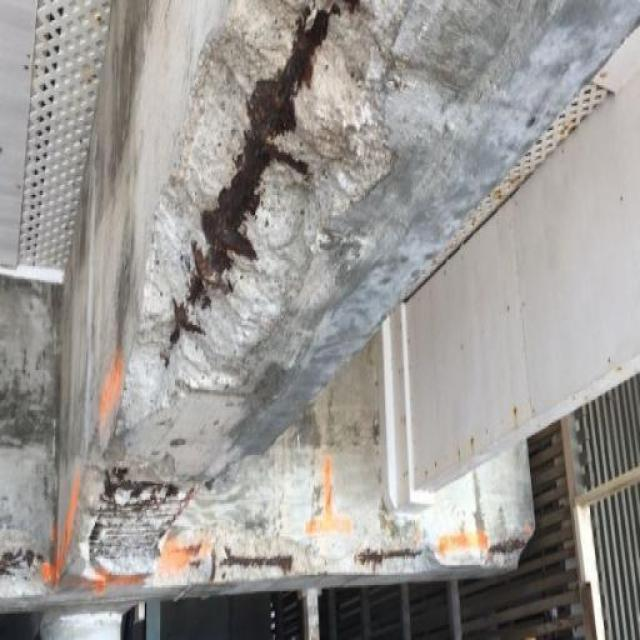D0w0: (120, 1, 405, 475), (89, 469, 191, 575), (155, 530, 292, 588), (354, 500, 439, 575)
